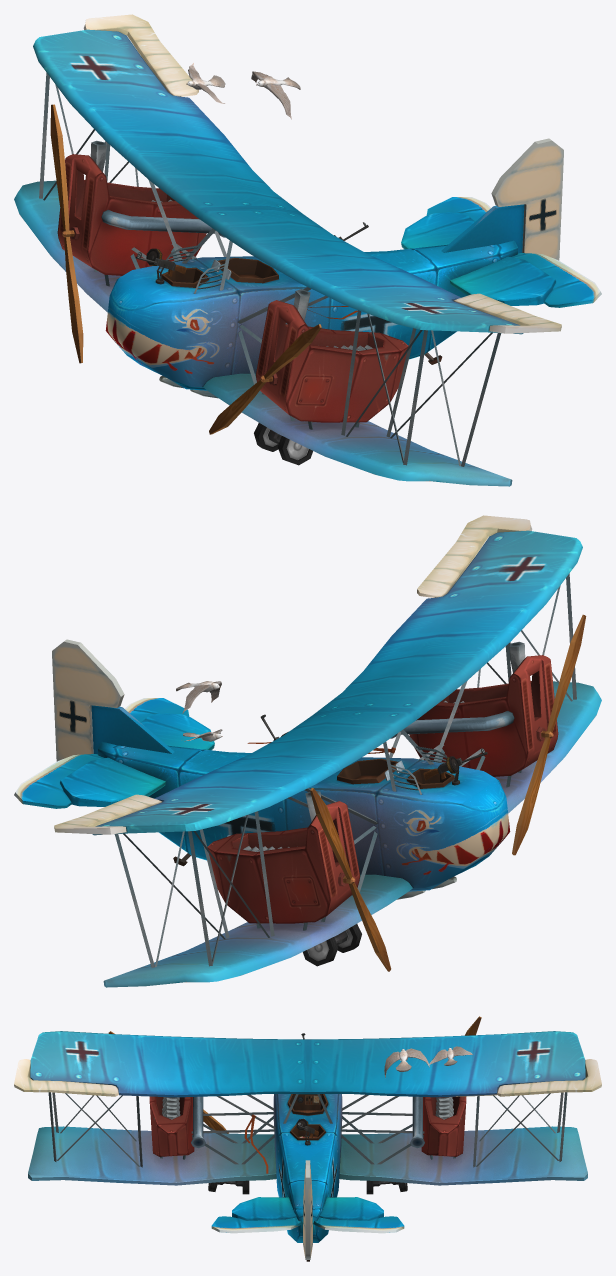
File: Moldovan_Alexia_GameArtPlane.fbx
The picture shows the model from 3 angles, top to bottom: view 1: azimuth 30°, elevation 25°; view 2: azimuth 150°, elevation 25°; view 3: azimuth 270°, elevation 25°; orthographic projection. The views are drawn at different scales.
Visible parts, largest first — view 1: Box003; view 2: Box003; view 3: Box003.
Part boxes in pixels (left/top/right/bottom): Box003: left=14, top=14, right=601, bottom=486; Box003: left=14, top=515, right=601, bottom=987; Box003: left=14, top=1016, right=601, bottom=1261.
Size of the model in its own units: 1244 by 694 by 2056.
1 material, 1 textured.
